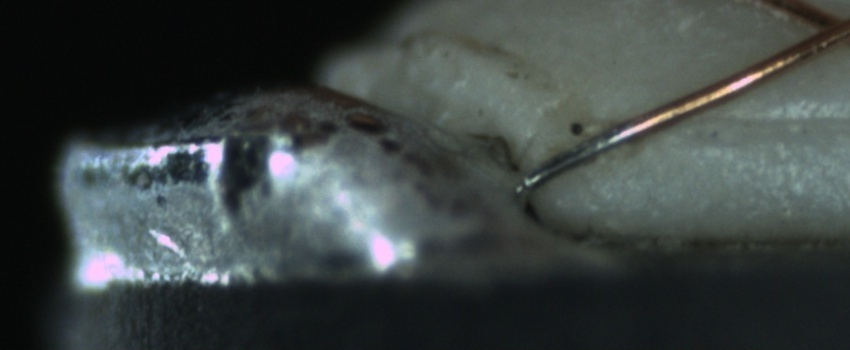CL: (780, 1, 849, 60)
DL: (689, 85, 848, 152)
TS: (522, 122, 638, 191)
